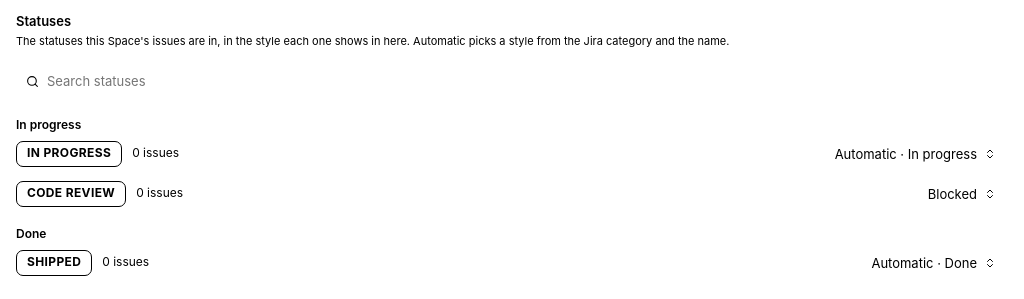
Test case: SpaceStatuses › search › keeps only the statuses whose name contains the text, ignoring case
Type "REVIEW" into the field labelled "Search statuses" at (522, 81), box [45,71,998,91]
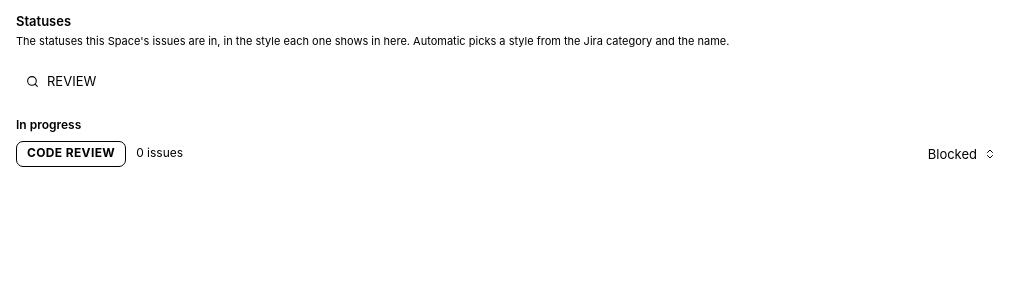
Expected: the text "Code Review" is shown, [16,141,126,167]
Now the text "Shipped" is gone
